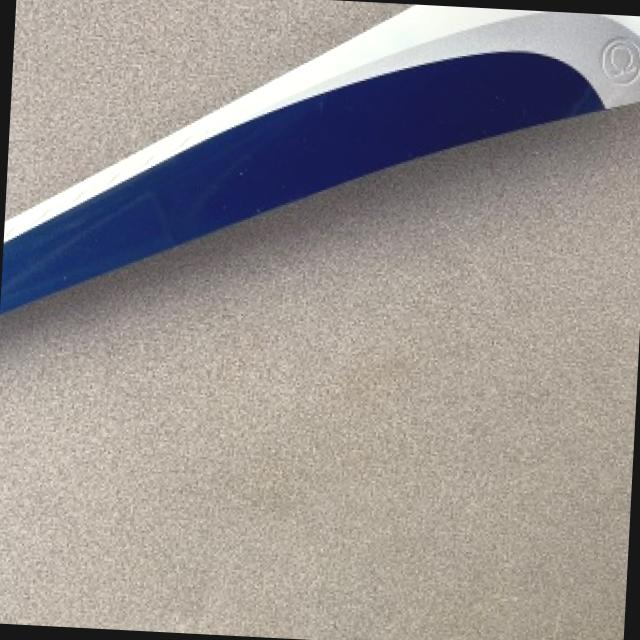healthy: (0, 103, 640, 640), (0, 4, 640, 310), (5, 0, 407, 214)
